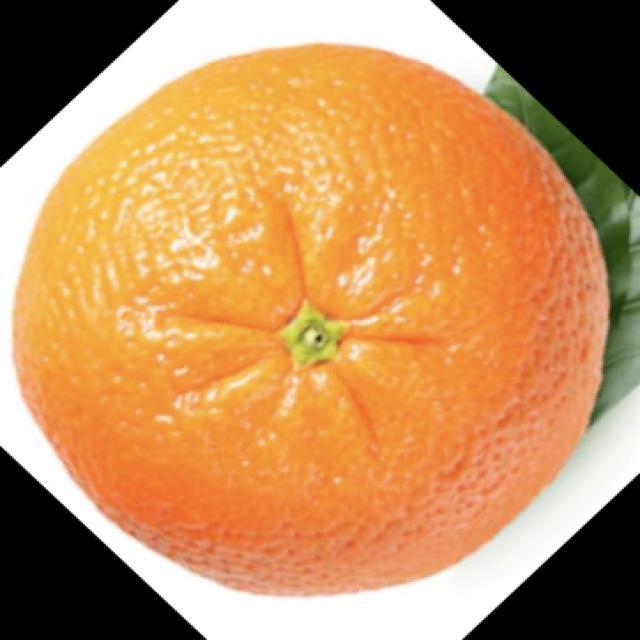Orange: (10, 41, 612, 597)
